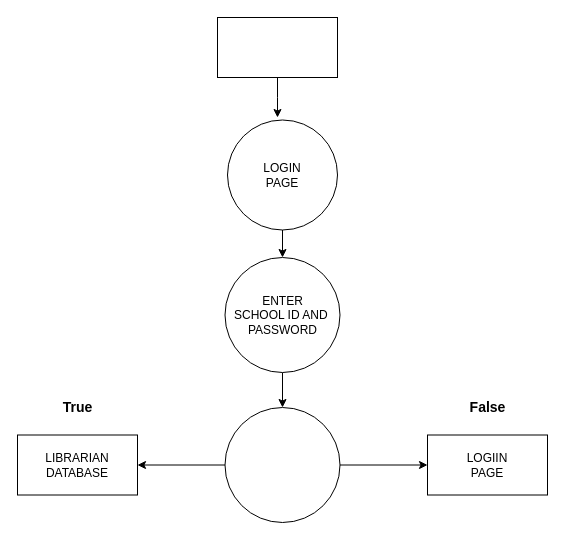
This 565x540 diagram has some shape labels left out. The shapes that lost their labels are listed below. From the top down, each one's centre as x and y in pixels, then its label:
At (x=277, y=47): "HOME".
At (x=282, y=464): "CHECK VALIDITY".
